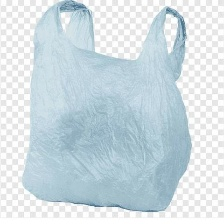plastic_bag: (17, 0, 196, 213)
